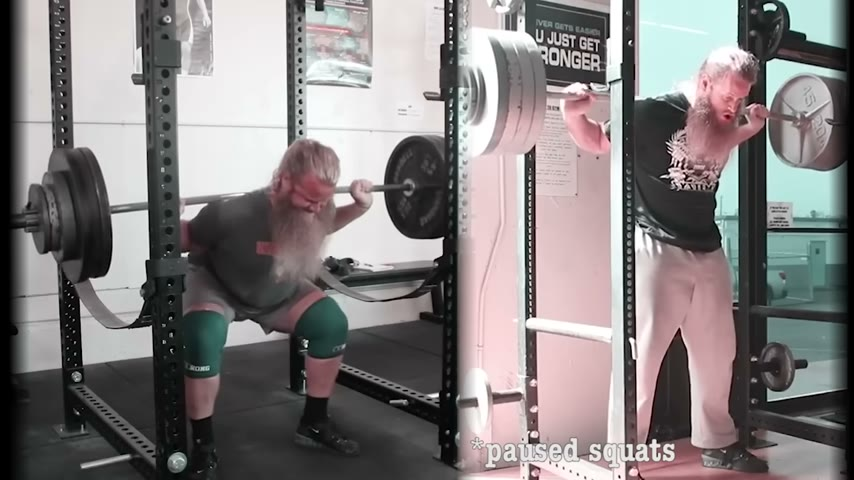barbell_plate_side: (3, 138, 115, 287)
